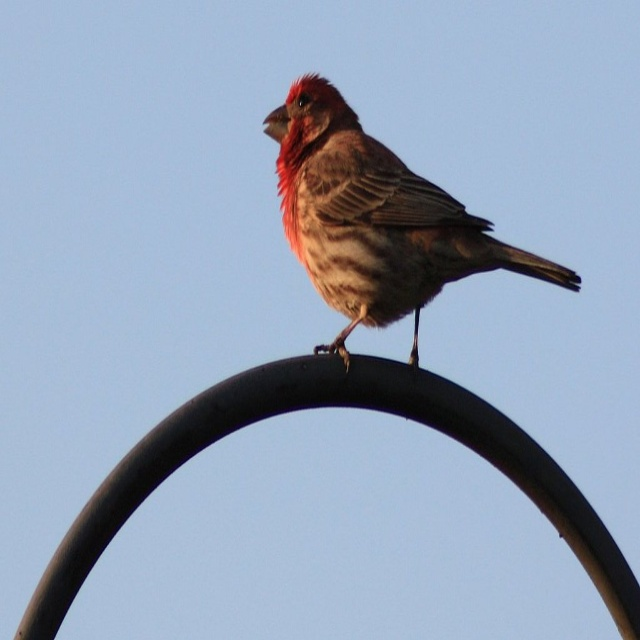Sparrow: (261, 72, 582, 379)
